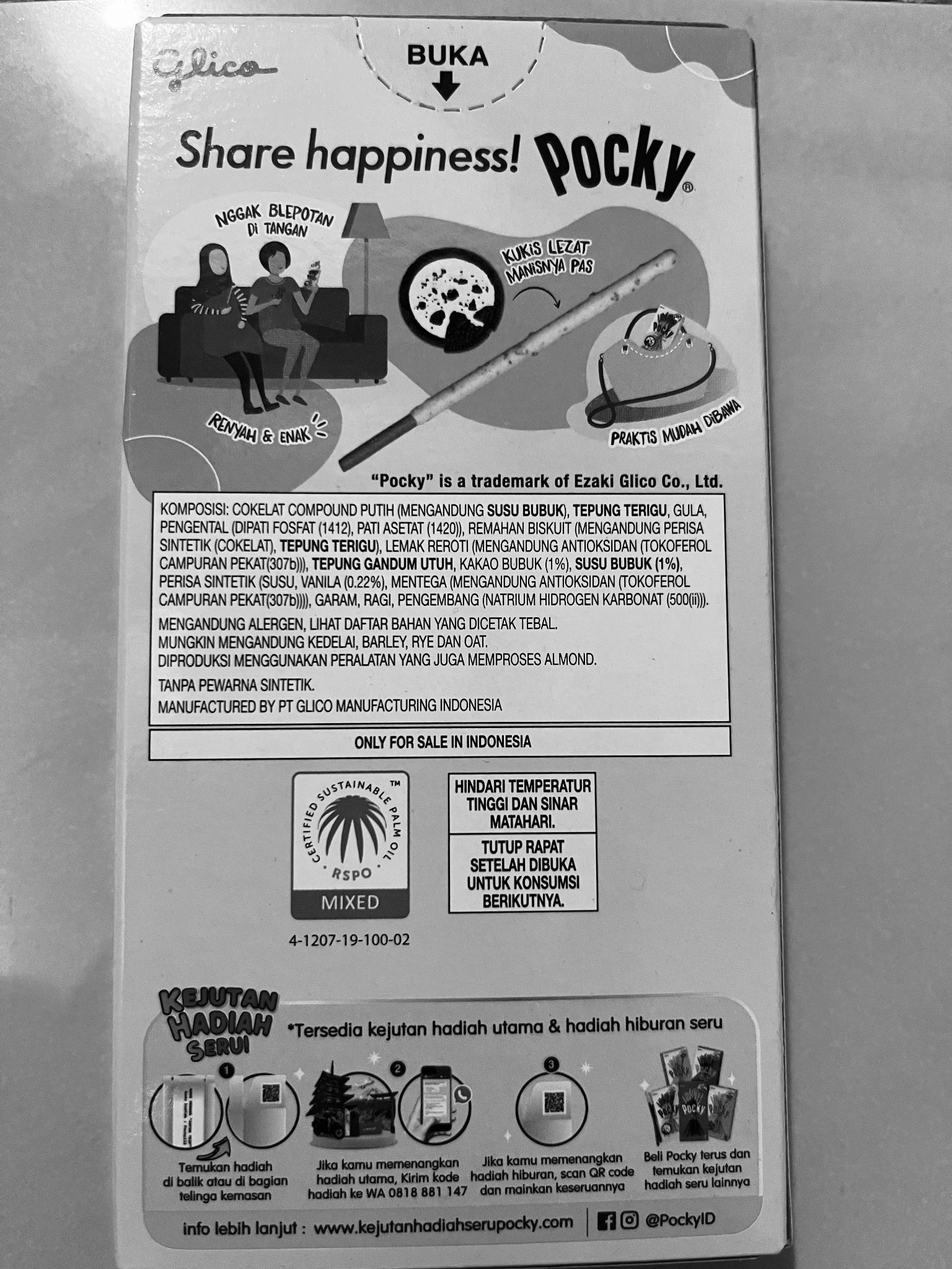Kertas: (110, 6, 781, 1265)
